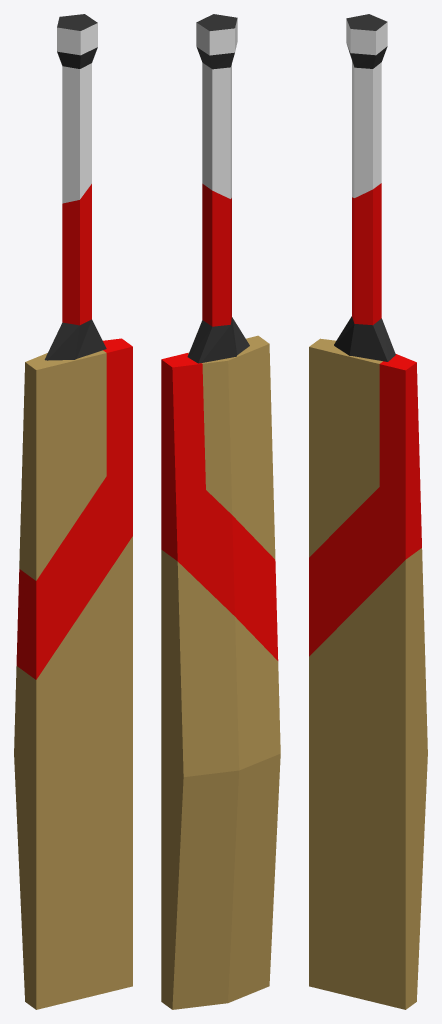
Rendered from CrickietBat_C1.fbx.
3 views of the same model, side by side, from view 1: azimuth 30°, elevation 25°; view 2: azimuth 210°, elevation 25°; view 3: azimuth 330°, elevation 25° (orthographic).
Parts seen in each view (by area): view 1: CrickietBat_C1; view 2: CrickietBat_C1; view 3: CrickietBat_C1.
Part boxes in pixels (x1,y1,x2,y2): CrickietBat_C1: [14, 14, 132, 1009]; CrickietBat_C1: [161, 14, 280, 1009]; CrickietBat_C1: [309, 14, 427, 1009].
Bounding box in the file's own units: 8.12 × 77.79 × 4.47.
